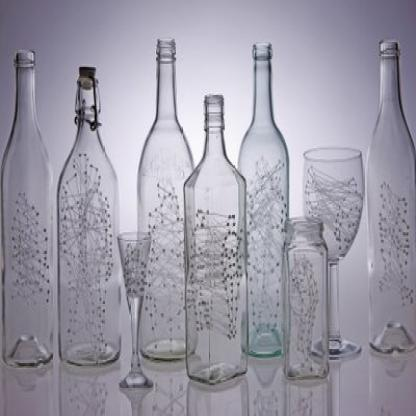Can: (135, 40, 197, 364), (184, 93, 250, 388), (58, 66, 122, 369), (1, 48, 54, 370), (237, 40, 290, 359), (365, 40, 416, 354)
